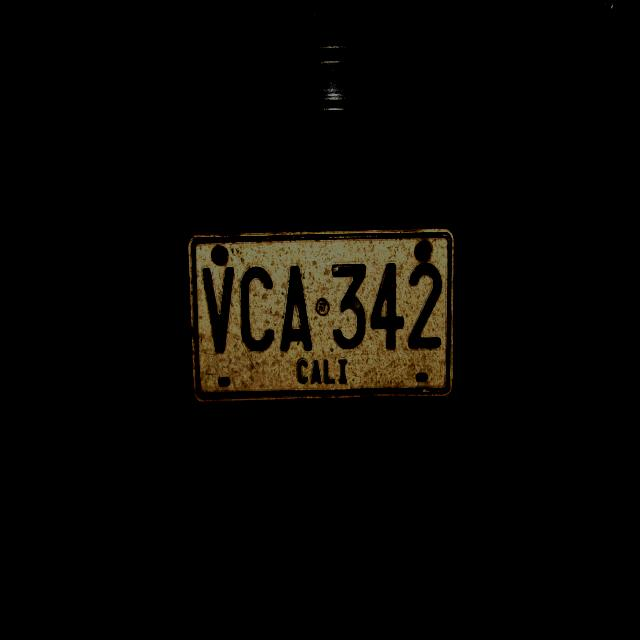placa: (184, 224, 458, 403)
